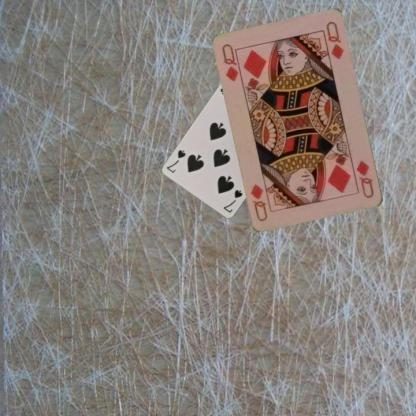7s: (221, 188, 244, 214)
Qd: (220, 41, 245, 84), (354, 158, 376, 199)
